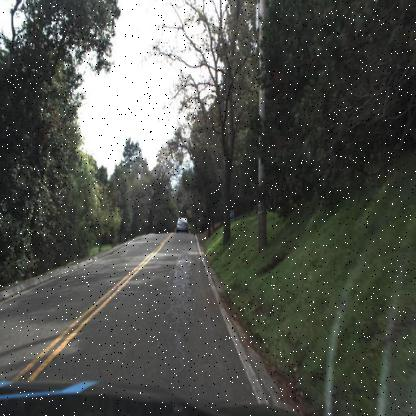car: (173, 215, 189, 234)
